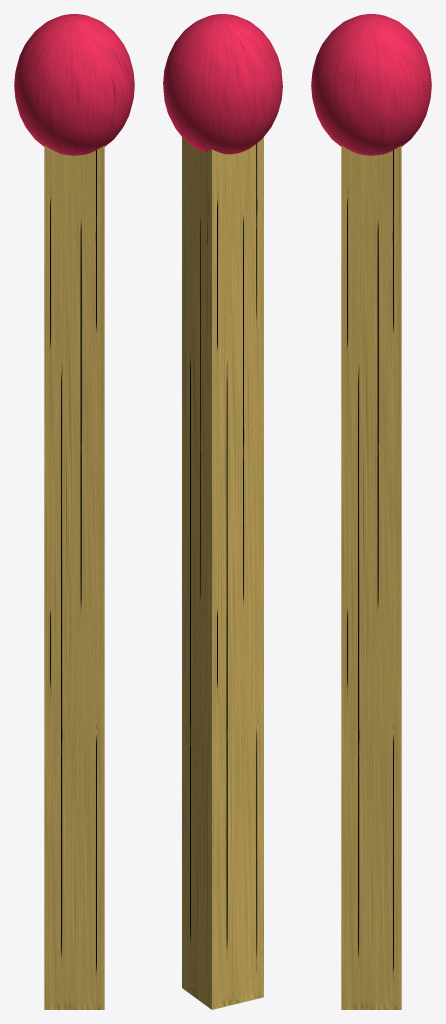
The model's file is matches.FBX.
The picture shows the model from 3 angles, left to right: view 1: azimuth 90°, elevation 25°; view 2: azimuth 210°, elevation 25°; view 3: azimuth 270°, elevation 25°; orthographic projection.
Visible parts, largest first — view 1: Box001, Sphere001; view 2: Box001, Sphere001; view 3: Box001, Sphere001.
Part boxes in pixels (x1,y1,x2,y2): Box001: [44, 145, 104, 1009]; Sphere001: [14, 14, 134, 155]; Box001: [182, 137, 263, 1009]; Sphere001: [163, 14, 282, 154]; Box001: [341, 145, 401, 1009]; Sphere001: [311, 14, 431, 155].
Bounding box in the file's own units: 6 × 53.66 × 6.
Materials: 2 (2 with a texture image).
